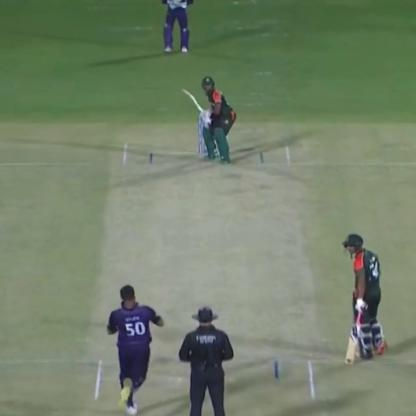bat: (176, 87, 214, 130)
pitch: (90, 142, 328, 413)
